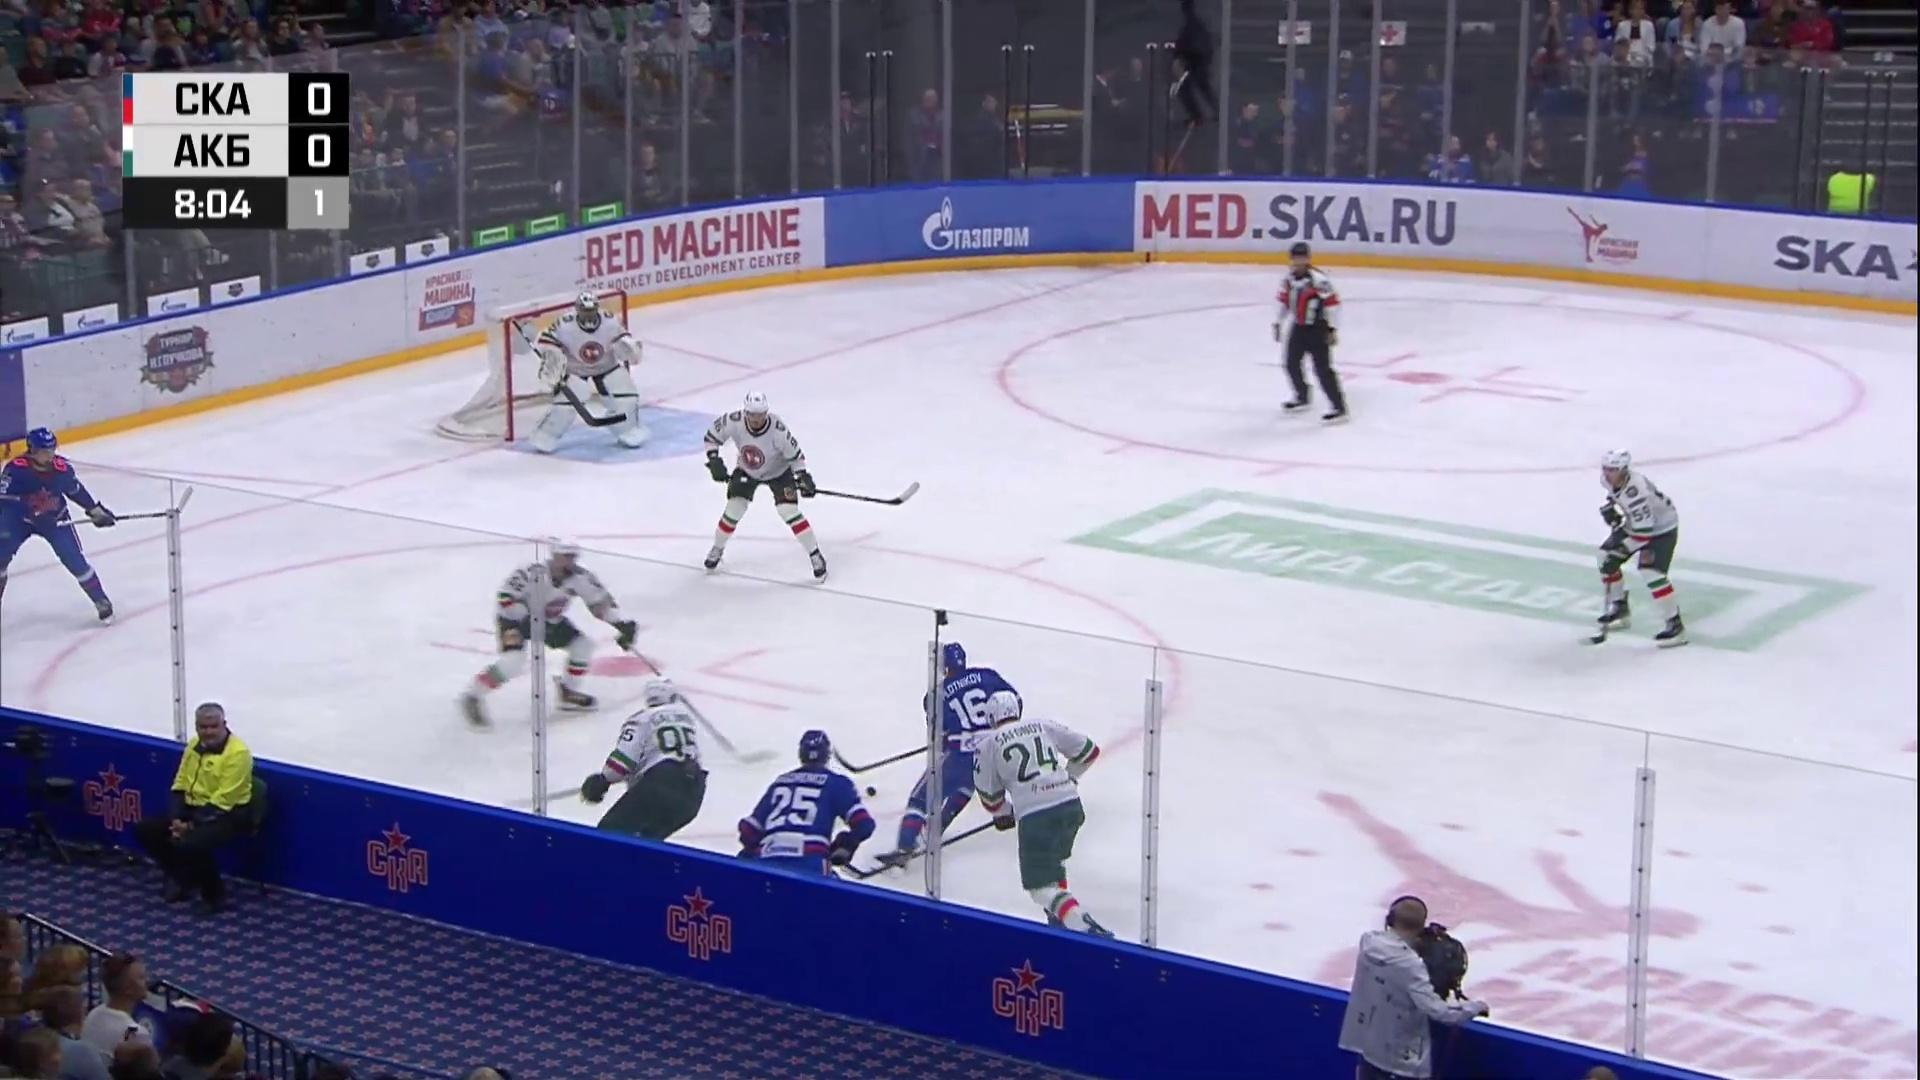ball: (865, 785, 878, 798)
